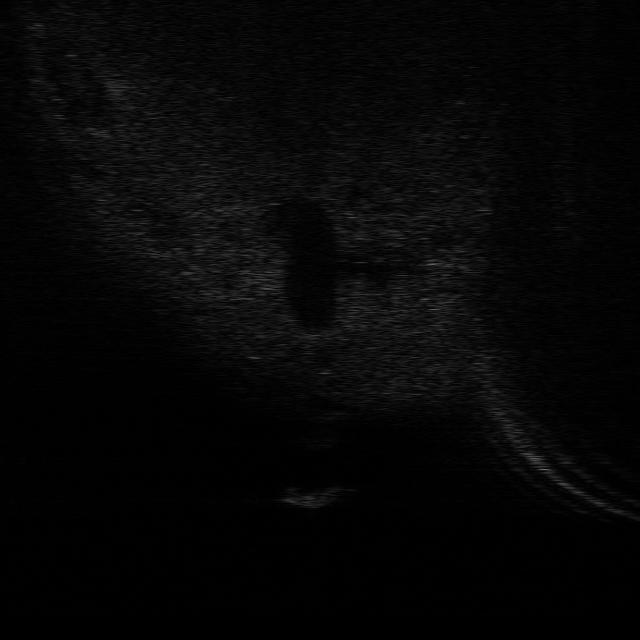cube: (274, 484, 355, 509)
